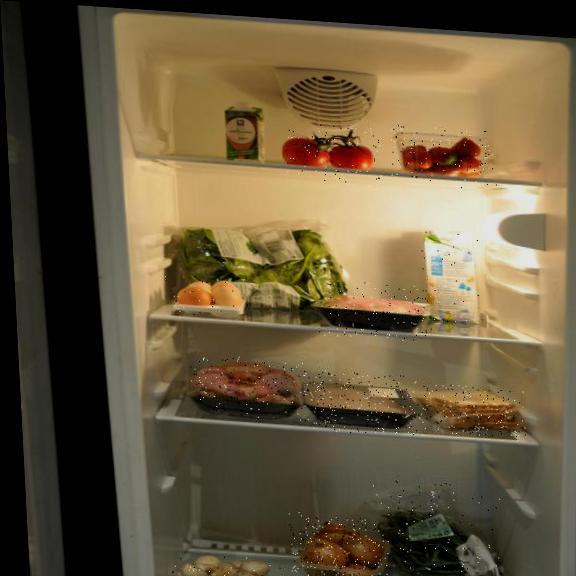bread: (423, 383, 526, 439)
chicken: (190, 350, 306, 421)
eggs: (162, 273, 261, 321)
green beans: (373, 478, 505, 576)
meat: (302, 369, 426, 438), (315, 279, 432, 344)
milk: (419, 226, 483, 324)
mushroom: (171, 553, 288, 576)
onion: (289, 512, 392, 576)
strawberry: (389, 124, 497, 191)
tomatoes: (283, 122, 383, 187)
